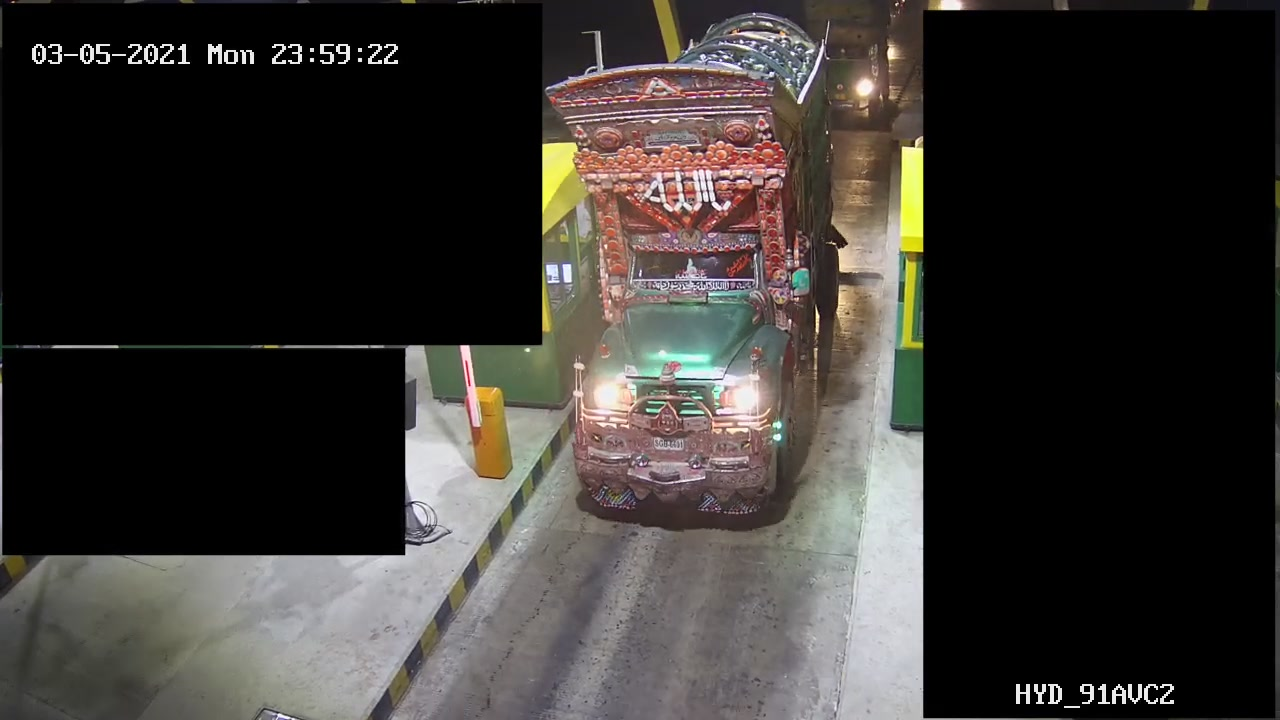F5: (544, 1, 833, 547)
